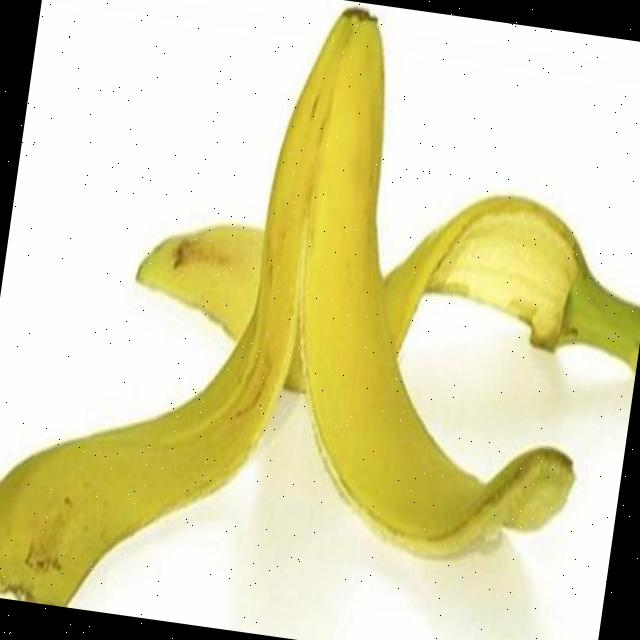banana-peel: (0, 0, 640, 640), (225, 0, 636, 577)
